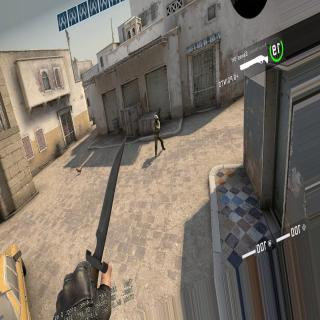CT-Body: (150, 113, 166, 157)
CT-Head: (153, 113, 158, 123)
